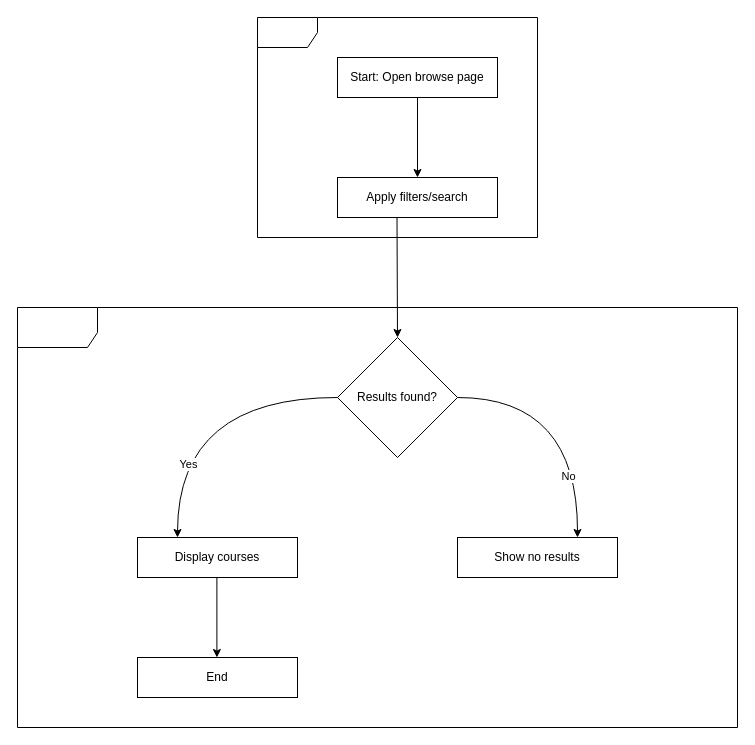
This 755x745 diagram has some shape labels left out. The centre of each missing label's shape, as x and y in pixels:
Student: the point at 397,127
System: the point at 377,517
